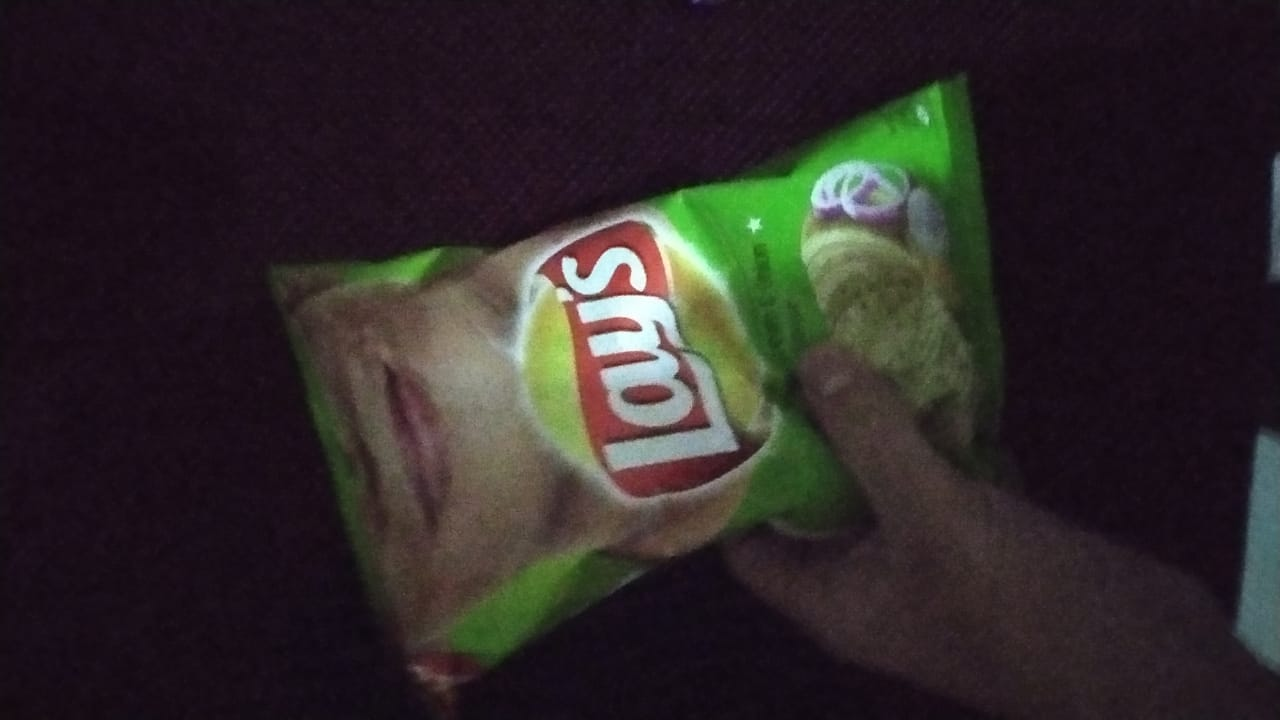lays chips: (217, 121, 1084, 704)
